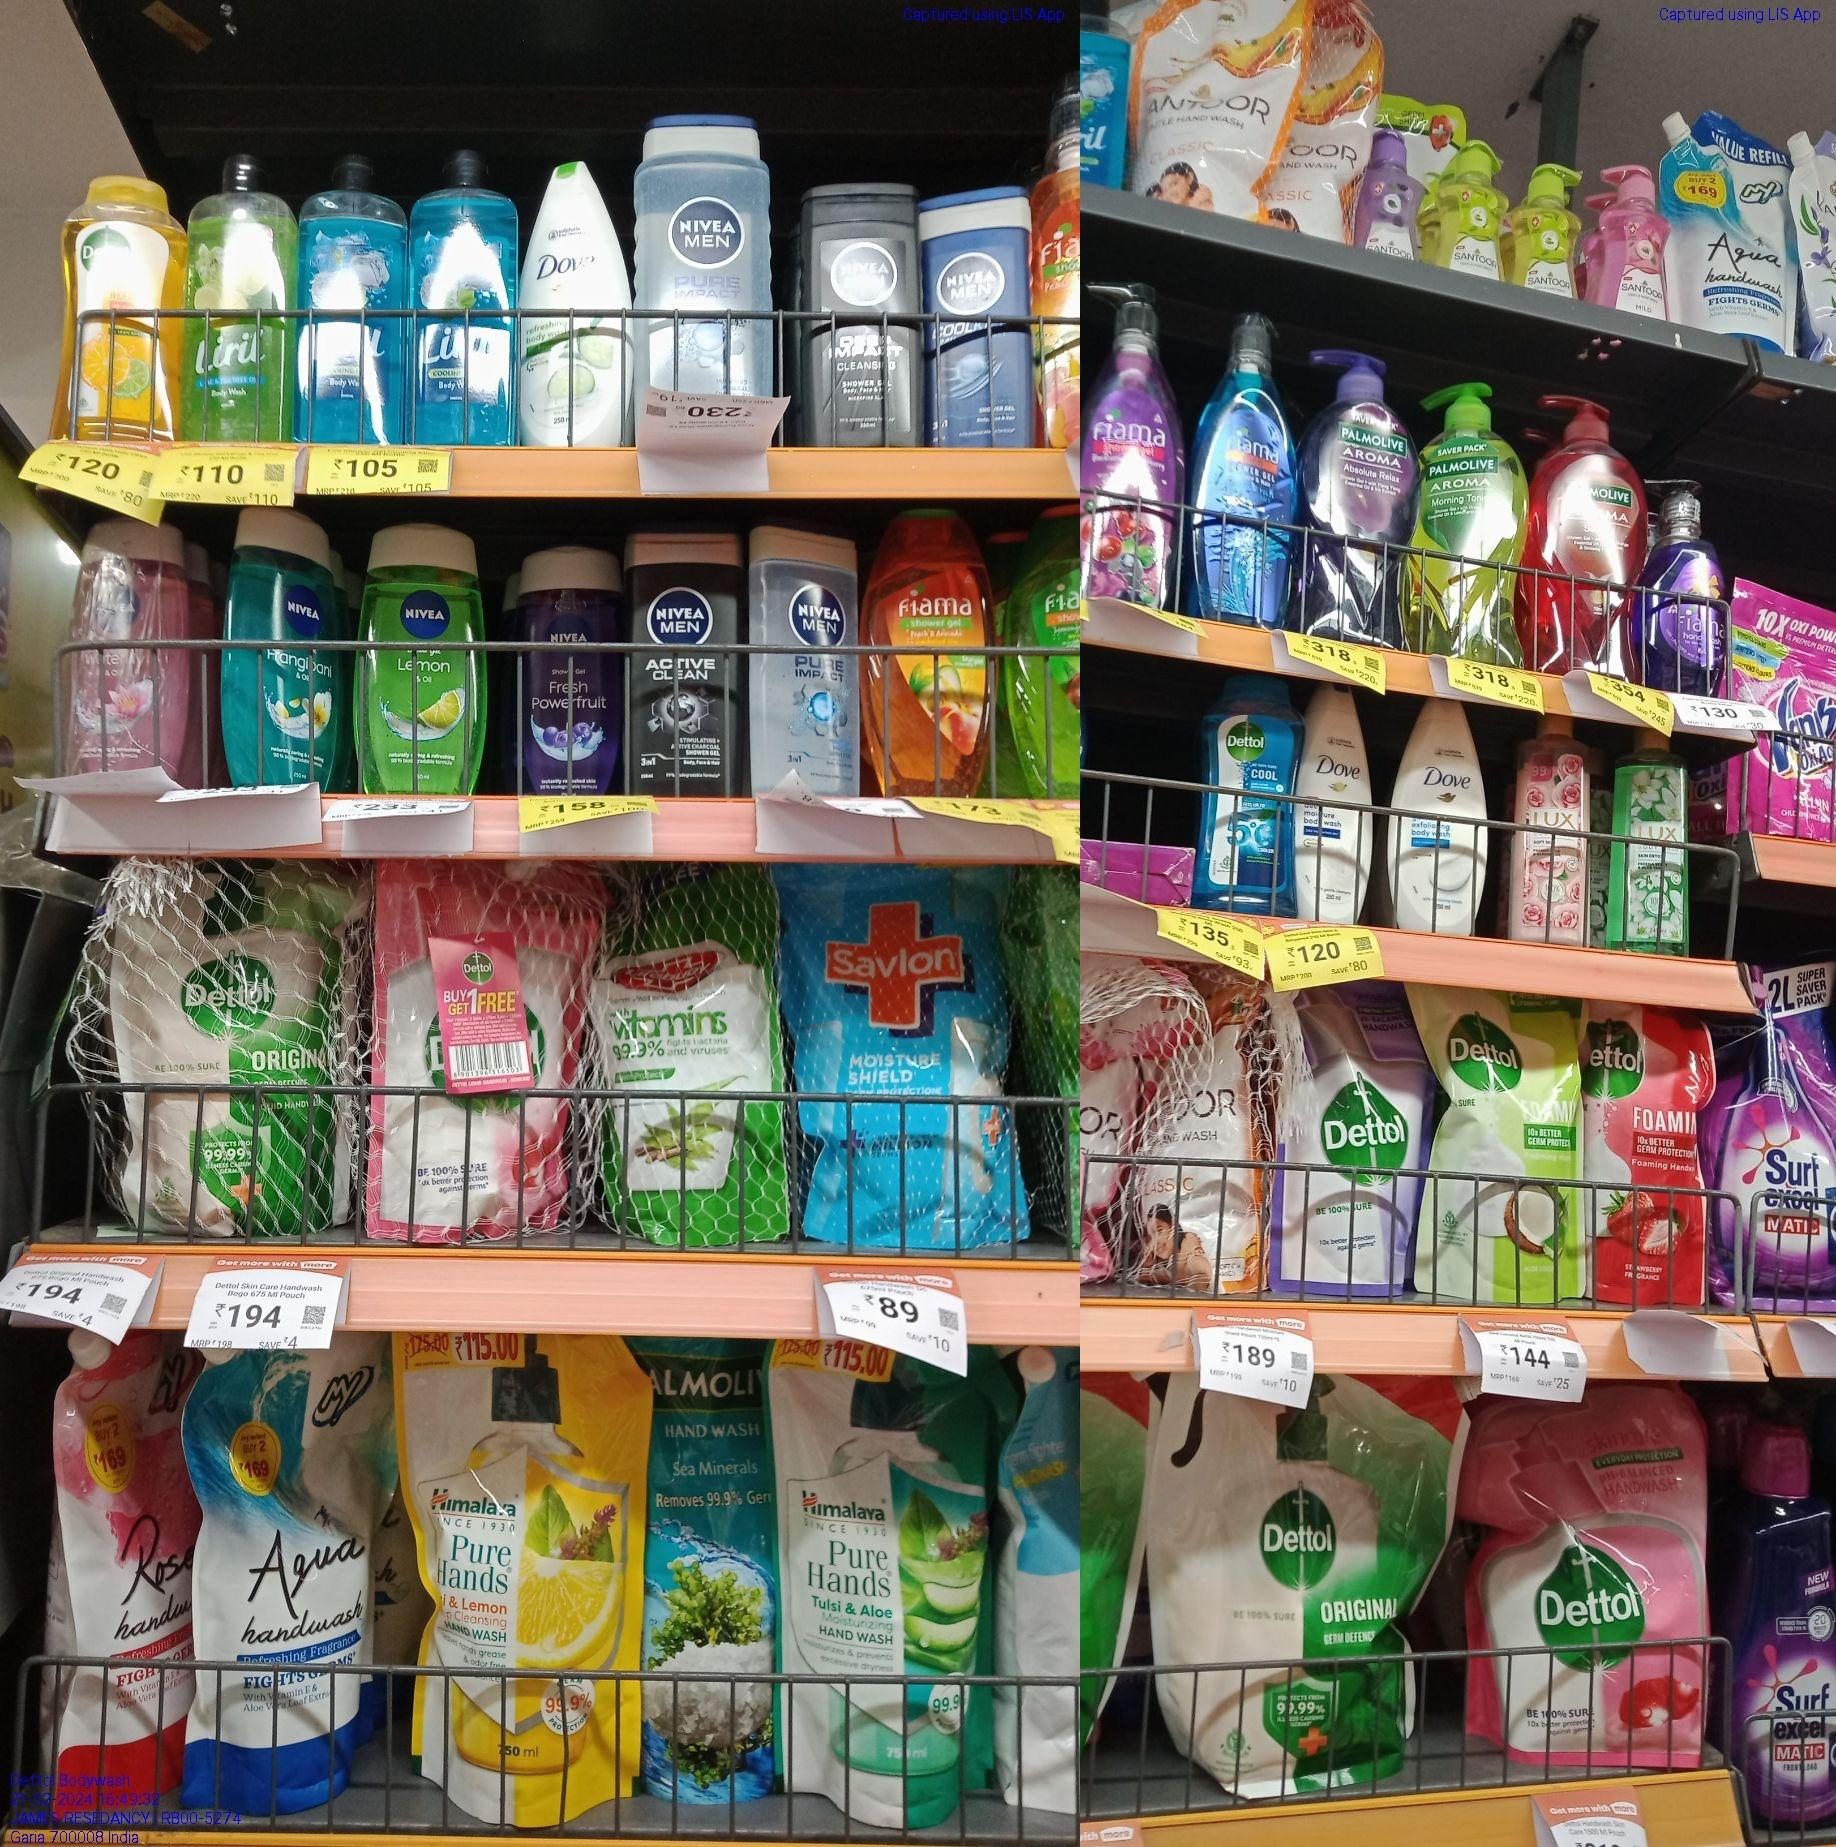Dettol_Bodywash_Cool: (1195, 669, 1303, 916)
Dettol_Bodywash_Refresh: (49, 170, 188, 437)
Dove_Gentle_Exfoliating_Body_Wash_250ML: (1387, 696, 1490, 933)
Dove_Refreshing_Body_Wash_250ML: (520, 158, 634, 449)
Fiama_Shower_Gel_Peach_and_Avocado_250ML: (859, 504, 997, 798)
Liril_Cooling_Mint_Body_Wash_250ML: (409, 143, 520, 445), (296, 148, 409, 440)
Liril_Lime_and_Tea_Tree_Oil_Body_Wash_250ML: (183, 148, 298, 445)
Lux_Body_Wash_Skin_Detox_Freesia_Scent_and_Alove_Vera_245ML: (1606, 728, 1691, 958)
Nivea_Shower_Gel_Frangipani_and_Oil_250ML: (219, 506, 345, 783)
Nivea_Shower_Gel_Fresh_Powerfruit_250ML: (511, 539, 625, 795)
Nivea_Shower_Gel_Lemon_and_Oil_250ML: (353, 519, 491, 798)
